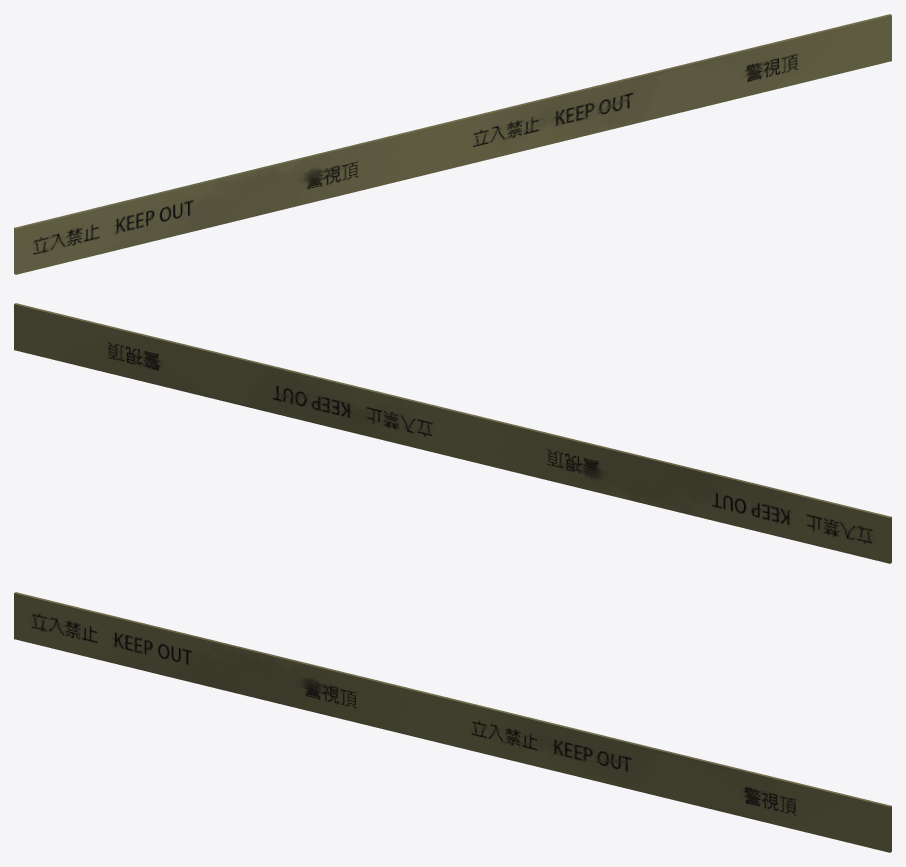
File: BgMD_KEEPOUTtape_0101.fbx
The picture shows the model from 3 angles, top to bottom: view 1: azimuth 30°, elevation 25°; view 2: azimuth 150°, elevation 25°; view 3: azimuth 330°, elevation 25°; orthographic projection.
Parts seen in each view (by area): view 1: pCube5; view 2: pCube5; view 3: pCube5.
Boxes of the visible parts, x1=… form: pCube5: x1=14, y1=14, x2=891, y2=274; pCube5: x1=14, y1=303, x2=891, y2=563; pCube5: x1=14, y1=592, x2=891, y2=852.
Size of the model in its own units: 300 by 15 by 1.
1 material, 1 textured.
